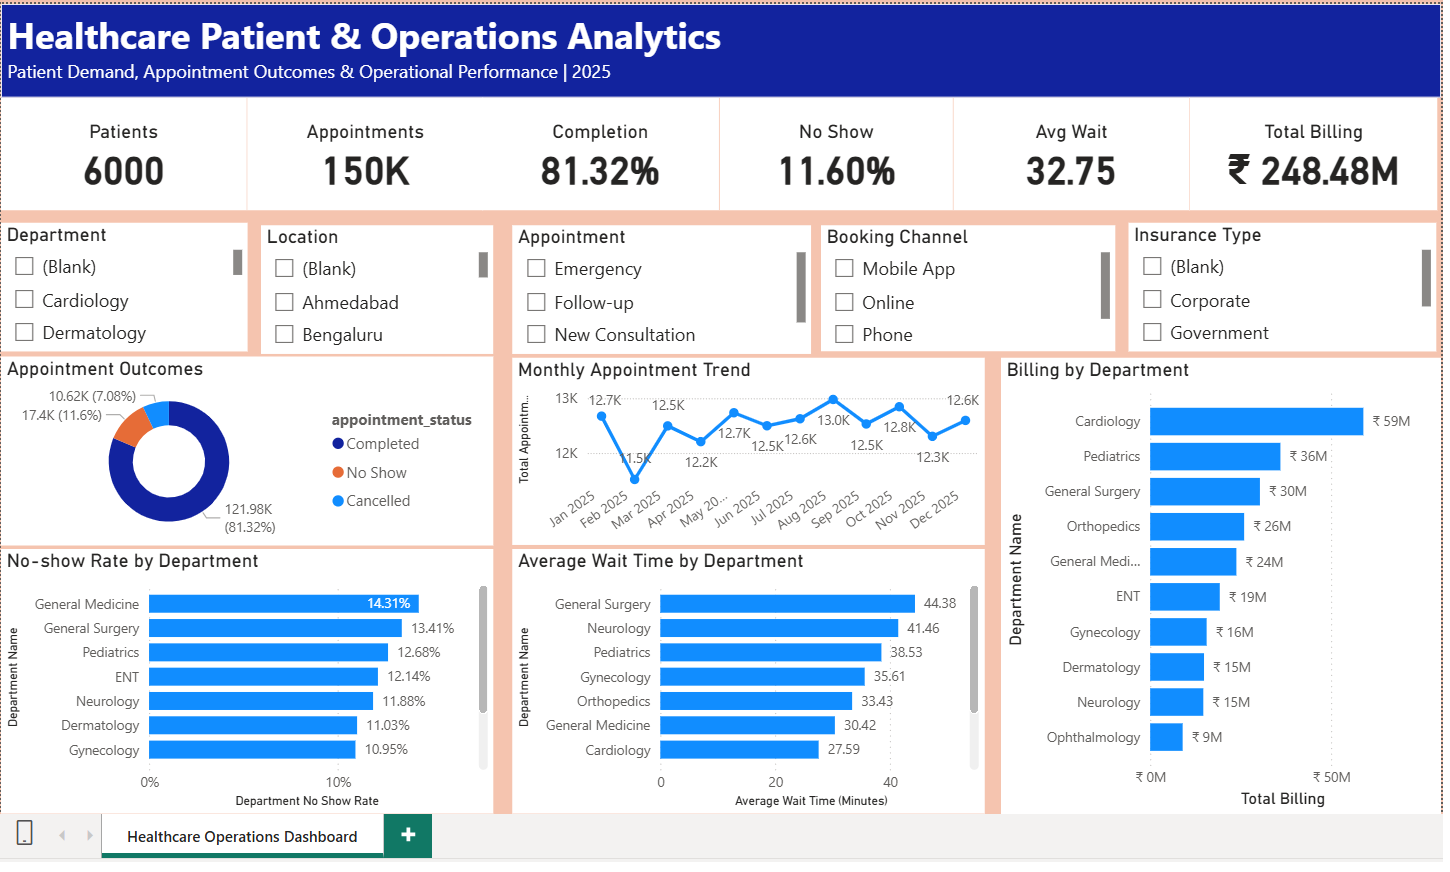

This screenshot's page, from the dashboard's own definition file:
{"tool":"powerbi","page":{"name":"Healthcare Operations Dashboard","canvas":[1280,720],"ordinal":0},"visuals":[{"type":"textbox","box":[0,0,1280.3,83.7],"z":0},{"type":"card","title":"Patients","fields":{"Values":["patients.Total Patients"]},"box":[0,83.2,218,100],"z":1000},{"type":"card","title":"Appointments","fields":{"Values":["appointments.Total Appointments"]},"box":[218.4,83.2,209.9,100.1],"z":2000},{"type":"card","title":"Completion","fields":{"Values":["appointments.Completion Rate"]},"box":[428.3,83.2,210,100.1],"z":3000},{"type":"card","title":"Avg Wait","fields":{"Values":["visits.Average Wait Time"]},"box":[846.9,83.2,209.9,100.1],"z":4000},{"type":"card","title":"Total Billing","fields":{"Values":["billing.Total Billing"]},"box":[1056.8,83.2,220,100.1],"z":5000},{"type":"card","title":"No Show","fields":{"Values":["appointments.No Show Rate"]},"box":[639.4,83.2,207.5,100.1],"z":6000},{"type":"donutChart","title":"Appointment Outcomes","fields":{"Category":["appointments.appointment_status"],"Y":["CountNonNull(appointments.appointment_id)"]},"box":[0,313.7,437.9,167.7],"z":7000},{"type":"lineChart","title":"Monthly Appointment Trend","fields":{"Category":["Calendar.Month Year"],"Y":["appointments.Total Appointments"]},"box":[454.8,314.9,419.8,166.5],"z":8000},{"type":"clusteredBarChart","title":"No-show Rate by Department","fields":{"Category":["departments.department_name"],"Y":["appointments.Department No Show Rate"]},"box":[0,485,437.9,235.3],"z":9000},{"type":"clusteredBarChart","title":"Average Wait Time by Department","fields":{"Category":["departments.department_name"],"Y":["visits.Average Wait Time"]},"box":[454.8,485,419.8,235.3],"z":10000},{"type":"clusteredBarChart","title":"Billing by Department","fields":{"Category":["departments.department_name"],"Y":["billing.Total Billing"]},"box":[889.1,314.9,390.9,405.4],"z":11000},{"type":"slicer","title":"Department","fields":{"Values":["departments.department_name"]},"box":[0,194.2,219.6,114.6],"z":12000},{"type":"slicer","title":"Location","fields":{"Values":["departments.location"]},"box":[231.6,196.6,206.3,114.6],"z":13000},{"type":"slicer","title":"Appointment","fields":{"Values":["appointments.appointment_type"]},"box":[454.8,196.6,265.4,114.6],"z":14000},{"type":"slicer","title":"Booking Channel","fields":{"Values":["appointments.booking_channel"]},"box":[728.7,196.6,261.8,112.2],"z":15000},{"type":"slicer","title":"Insurance Type","fields":{"Values":["patients.insurance_type"]},"box":[1002.6,194.2,273.9,114.6],"z":16000}]}

Visuals, with their boxes in screenshot pixels (x1, y1, x2, y2):
textbox: [x1=4, y1=0, x2=1434, y2=94]
"Patients" card: [x1=4, y1=93, x2=247, y2=205]
"Appointments" card: [x1=248, y1=93, x2=482, y2=205]
"Completion" card: [x1=482, y1=93, x2=717, y2=205]
"Avg Wait" card: [x1=950, y1=93, x2=1184, y2=205]
"Total Billing" card: [x1=1184, y1=93, x2=1430, y2=205]
"No Show" card: [x1=718, y1=93, x2=950, y2=205]
"Appointment Outcomes" donutChart: [x1=4, y1=350, x2=493, y2=538]
"Monthly Appointment Trend" lineChart: [x1=512, y1=352, x2=981, y2=538]
"No-show Rate by Department" clusteredBarChart: [x1=4, y1=542, x2=493, y2=805]
"Average Wait Time by Department" clusteredBarChart: [x1=512, y1=542, x2=981, y2=805]
"Billing by Department" clusteredBarChart: [x1=997, y1=352, x2=1434, y2=805]
"Department" slicer: [x1=4, y1=217, x2=249, y2=345]
"Location" slicer: [x1=263, y1=220, x2=493, y2=348]
"Appointment" slicer: [x1=512, y1=220, x2=808, y2=348]
"Booking Channel" slicer: [x1=818, y1=220, x2=1110, y2=345]
"Insurance Type" slicer: [x1=1124, y1=217, x2=1430, y2=345]
